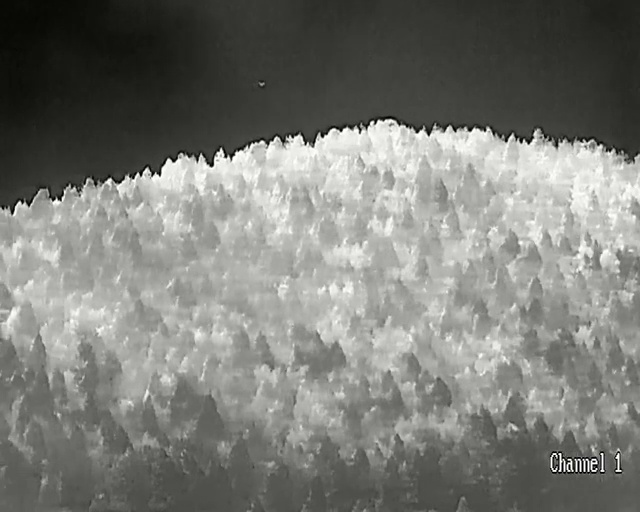uav: (258, 82, 263, 86)
